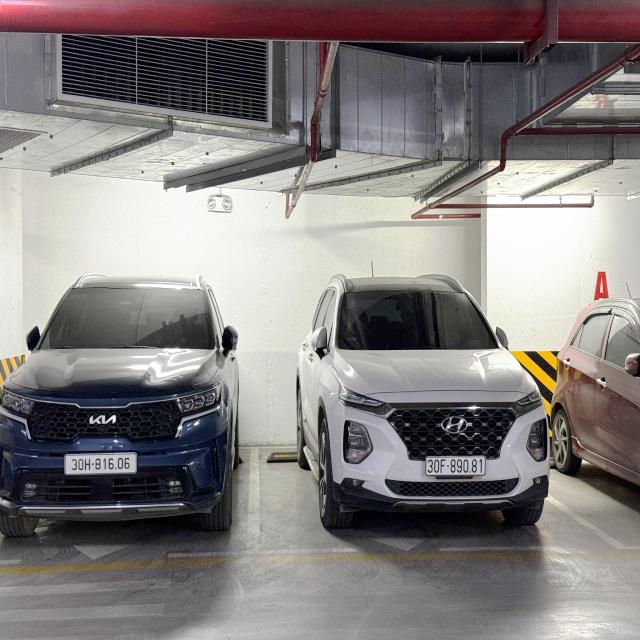license_plate: (66, 449, 139, 478), (425, 454, 487, 477)
